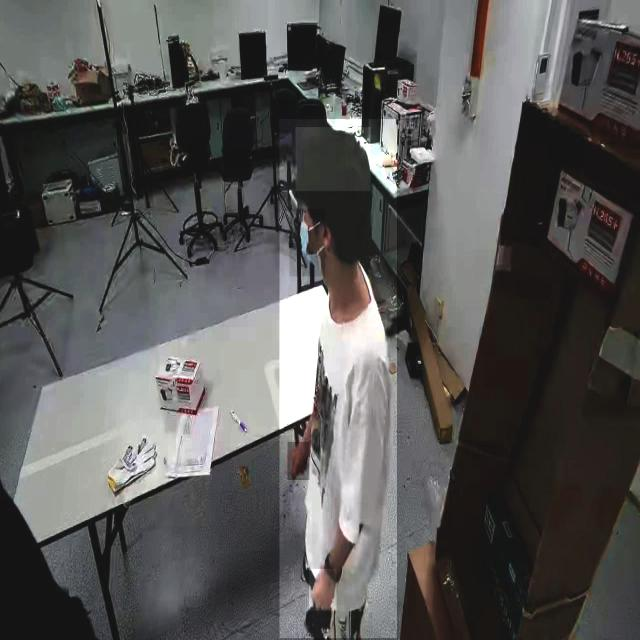face_mask: (289, 209, 325, 276)
hand_noglove: (309, 569, 337, 611), (288, 442, 310, 481)
head_nohelmet: (295, 127, 371, 192)
person: (280, 119, 398, 639)
